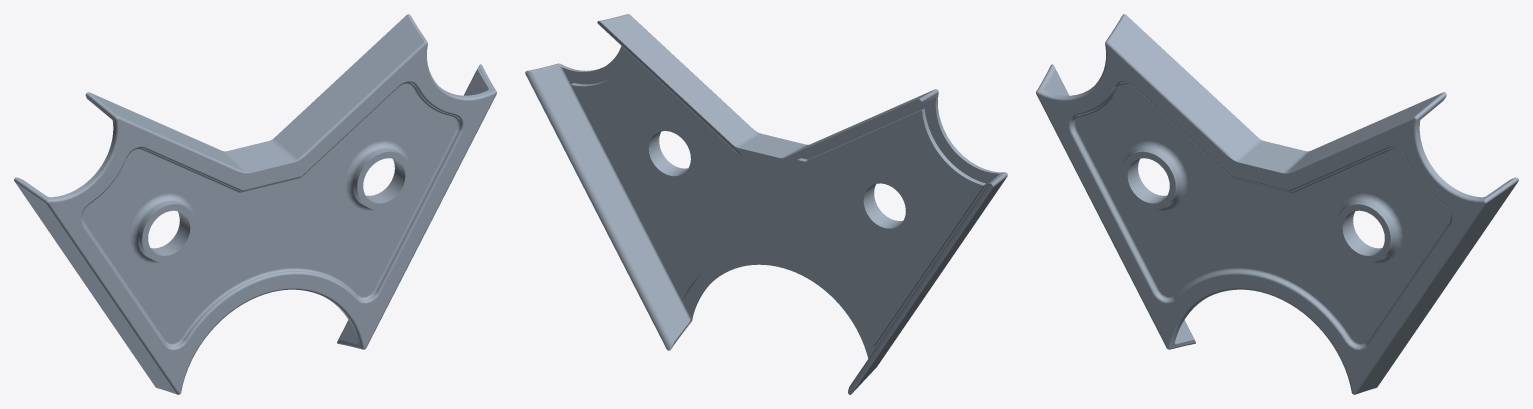
The model's file is front_cover.obj.
3 renders of one model, left to right at view 1: azimuth 30°, elevation 25°; view 2: azimuth 150°, elevation 25°; view 3: azimuth 330°, elevation 25°, orthographic.
Visible parts, largest first — view 1: 1; view 2: 1; view 3: 1.
Boxes of the visible parts, box(x1,y1,x2,y2) form: 1: box(14, 14, 496, 394); 1: box(525, 14, 1007, 394); 1: box(1036, 14, 1518, 394).
Size of the model in its own units: 492 by 314 by 52.15.
